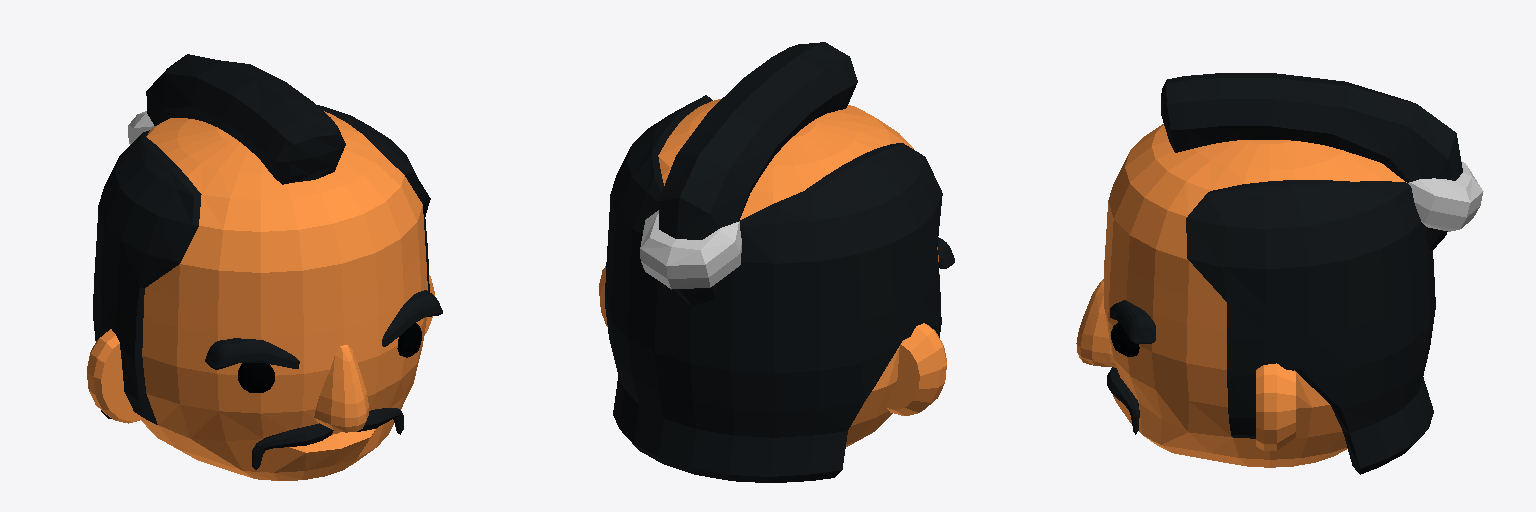
The model's file is character_samurai_head_hair.obj.
3 views of the same model, side by side, from view 1: azimuth 30°, elevation 25°; view 2: azimuth 150°, elevation 25°; view 3: azimuth 270°, elevation 25° (orthographic).
Visible parts, largest first — view 1: character_samurai_head_hair_Cube.118; view 2: character_samurai_head_hair_Cube.118; view 3: character_samurai_head_hair_Cube.118.
Part boxes in pixels (x1,y1,x2,y2): character_samurai_head_hair_Cube.118: (87,54,442,480); character_samurai_head_hair_Cube.118: (599,42,954,482); character_samurai_head_hair_Cube.118: (1076,73,1483,474).
Size of the model in its own units: 1.18 by 1.17 by 1.21.